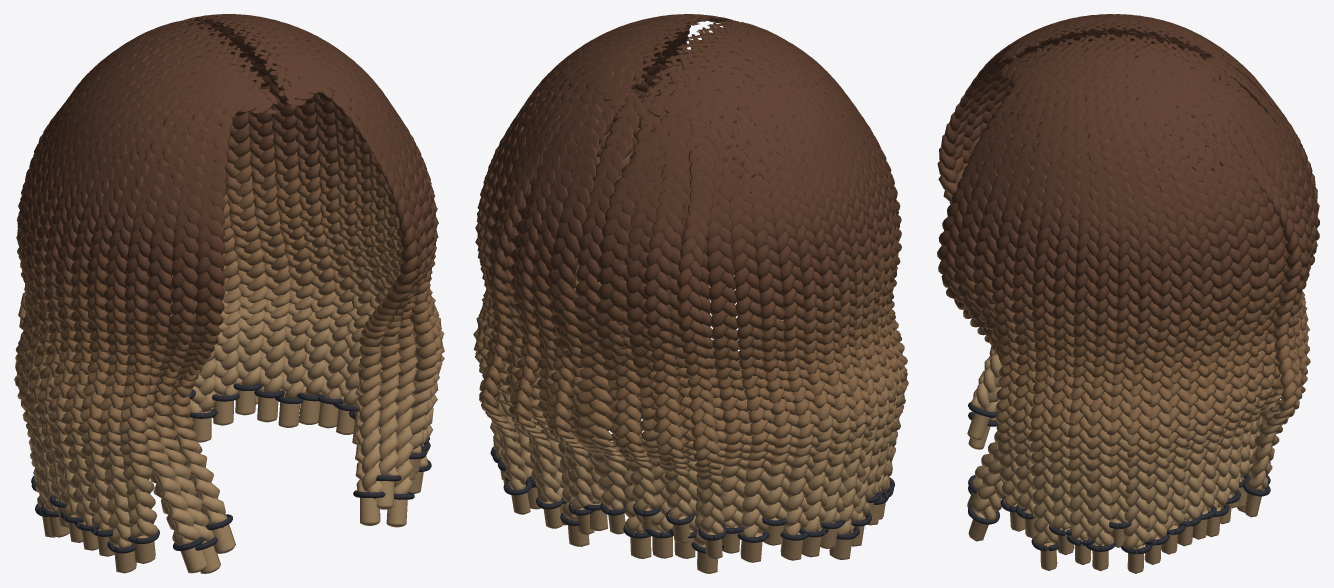
File: box-braids-cap-ombre.glb
3 views of the same model, side by side, from view 1: azimuth 30°, elevation 25°; view 2: azimuth 150°, elevation 25°; view 3: azimuth 270°, elevation 25° (orthographic). The views are drawn at different scales.
Parts seen in each view (by area): view 1: 226 hair / Hair / chestnut226.001, 226 hair / Hair / ties226.001; view 2: 226 hair / Hair / chestnut226.001, 226 hair / Hair / ties226.001; view 3: 226 hair / Hair / chestnut226.001, 226 hair / Hair / ties226.001.
Boxes of the visible parts, x1,y1,x2,y2 form: 226 hair / Hair / chestnut226.001: [14, 14, 444, 573]; 226 hair / Hair / ties226.001: [31, 383, 431, 553]; 226 hair / Hair / chestnut226.001: [473, 14, 908, 573]; 226 hair / Hair / ties226.001: [490, 408, 894, 553]; 226 hair / Hair / chestnut226.001: [937, 14, 1319, 573]; 226 hair / Hair / ties226.001: [968, 402, 1270, 554].
Size of the model in its own units: 0.9094 by 1.06 by 0.7878.
